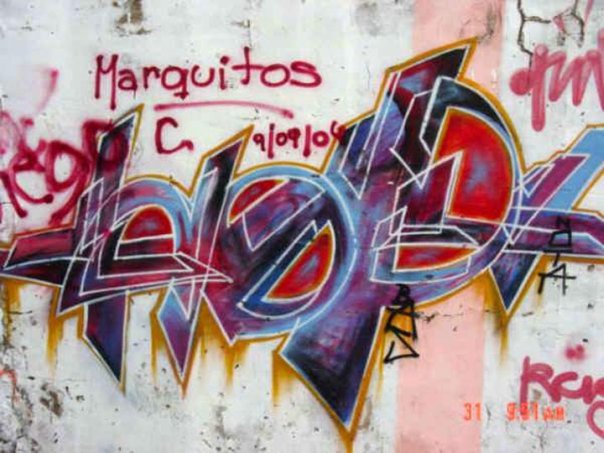graffity: (3, 36, 604, 453), (1, 37, 354, 229), (506, 20, 604, 134), (507, 343, 604, 439)
